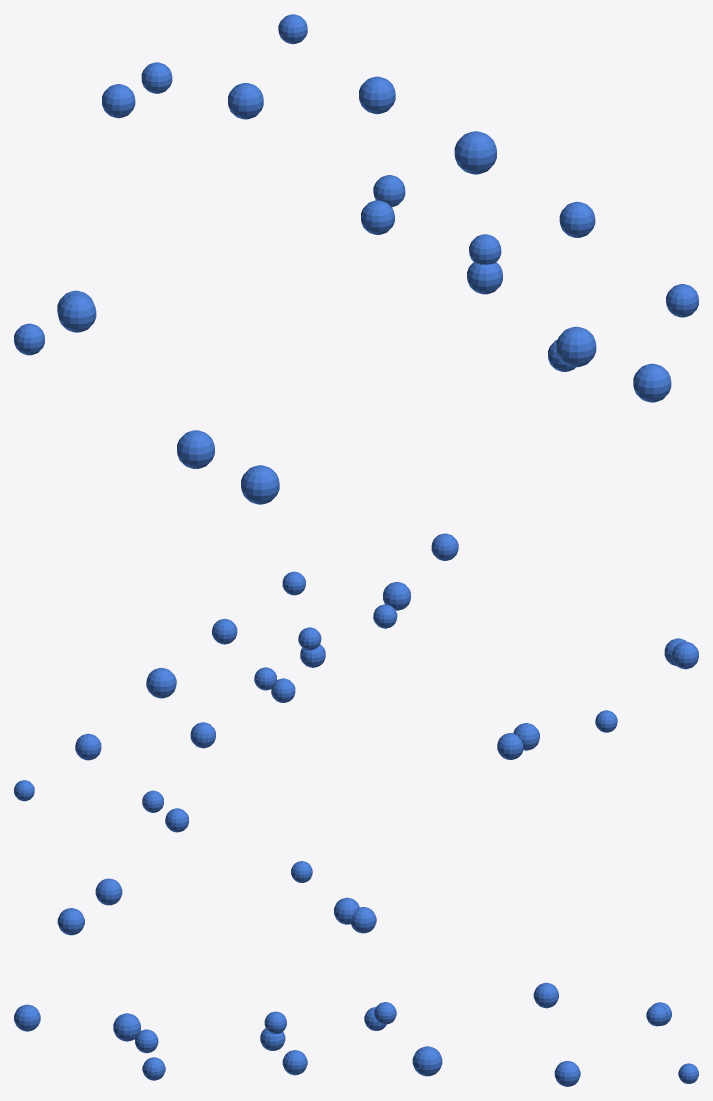
The model's file is CanopyE1_AjisaBlueLight.fbx.
The picture shows the model from 3 angles, top to bottom: view 1: azimuth 30°, elevation 25°; view 2: azimuth 150°, elevation 25°; view 3: azimuth 270°, elevation 25°; orthographic projection. The views are drawn at different scales.
Parts seen in each view (by area): view 1: CanopyE0.001; view 2: CanopyE0.001; view 3: CanopyE0.001.
Boxes of the visible parts, <box> form: CanopyE0.001: <box>14,14,698,504</box>; CanopyE0.001: <box>14,533,698,832</box>; CanopyE0.001: <box>14,861,698,1086</box>.
Bounding box in the file's own units: 15201 × 2232 × 22622.
